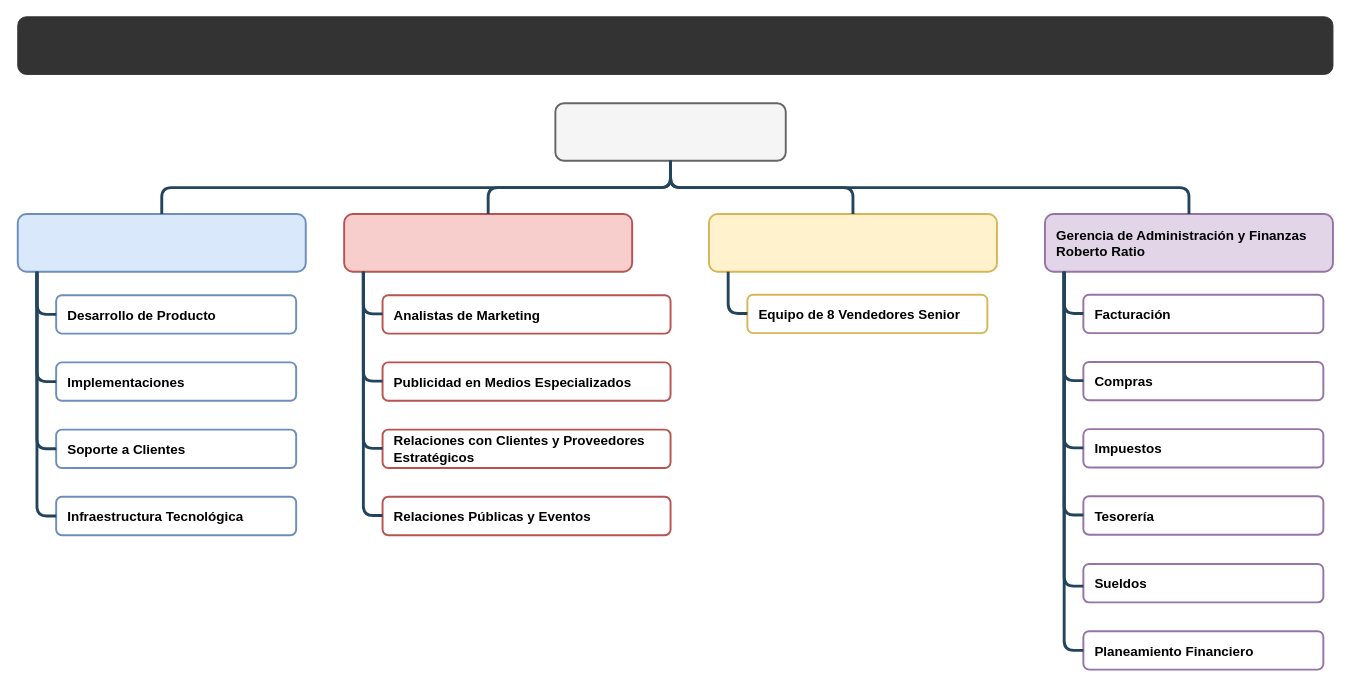
The diagram is 1350 pixels wide and 687 high, and some of its shapes have lost their labels. Each missing label, with the centre of its shape:
"CEO - Socio Fundador Juan Zeo" goes at [670,131].
"Gerencia de Marketing José Mercado" goes at [488,242].
"Gerencia de Operaciones Fernando Soluzzia" goes at [161,242].
"Gerencia de Ventas Juan Anvizzio" goes at [852,242].
"Praxis Systems Argentina (PSA)" goes at [675,45].
